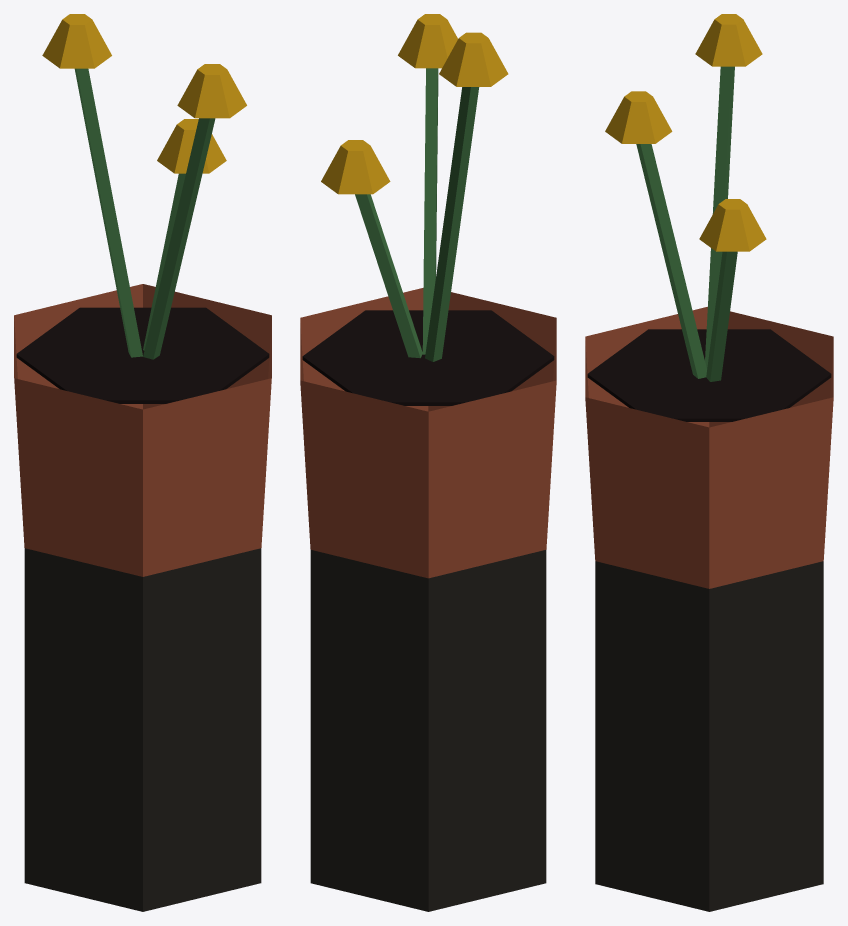
The model's file is vase-28.glb.
The picture shows the model from 3 angles, left to right: view 1: azimuth 30°, elevation 25°; view 2: azimuth 150°, elevation 25°; view 3: azimuth 270°, elevation 25°; orthographic projection. The views are drawn at different scales.
Visible parts, largest first — view 1: vase_28; view 2: vase_28; view 3: vase_28.
Boxes of the visible parts, x1,y1,x2,y2 form: vase_28: (14,14,271,911); vase_28: (300,14,556,911); vase_28: (585,14,833,911).
Bounding box in the file's own units: 0.2976 × 0.9279 × 0.2577.
